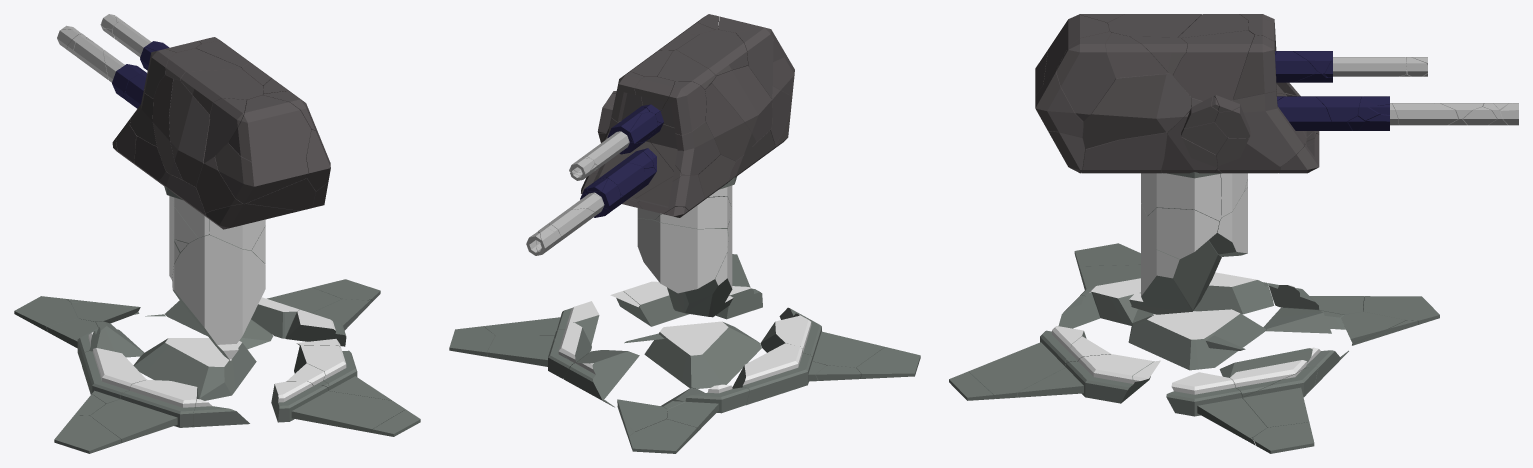
File: explodedTurret.fbx
3 views of the same model, side by side, from view 1: azimuth 30°, elevation 25°; view 2: azimuth 150°, elevation 25°; view 3: azimuth 270°, elevation 25° (orthographic). The views are drawn at different scales.
Visible parts, largest first — view 1: Base_cell.050, Base_cell.025, Base_cell.043, Base_cell.037, Main_cell.019, Main_cell.009, Main_cell.018, Main_cell.022, Base_cell.054, Base_cell.045, Base_cell.062, Main_cell.029 (+31 smaller); view 2: Base_cell.025, Base_cell.058, Base_cell.043, Base_cell.045, Main_cell.018, Main_cell.035, Base_cell.030, Base_cell.050, Base_cell.007, Main_cell.015, Main_cell.029, Base_cell.001 (+29 smaller); view 3: Main_cell.030, Base_cell.025, Base_cell.050, Main_cell.004, Base_cell.054, Base_cell.037, Base_cell.062, Main_cell.010, Base_cell.033, Base_cell.043, Main_cell.037, Main_cell.026 (+36 smaller).
Part boxes in pixels (<box>): Base_cell.050: <box>172,235,265,360</box>; Base_cell.025: <box>133,338,256,400</box>; Base_cell.043: <box>90,379,198,443</box>; Base_cell.037: <box>271,381,405,432</box>; Main_cell.019: <box>228,95,311,161</box>; Main_cell.009: <box>215,142,308,203</box>; Main_cell.018: <box>169,79,209,187</box>; Main_cell.022: <box>196,155,315,213</box>; Base_cell.054: <box>294,345,391,400</box>; Base_cell.045: <box>82,348,146,403</box>; Base_cell.062: <box>285,299,369,346</box>; Main_cell.029: <box>180,69,263,114</box>; Base_cell.025: <box>644,321,761,388</box>; Base_cell.058: <box>637,218,728,293</box>; Base_cell.043: <box>760,315,884,367</box>; Base_cell.045: <box>732,343,826,405</box>; Main_cell.018: <box>712,65,772,141</box>; Main_cell.035: <box>649,121,720,174</box>; Base_cell.030: <box>563,350,639,400</box>; Base_cell.050: <box>667,201,733,317</box>; Base_cell.007: <box>487,335,573,378</box>; Main_cell.015: <box>705,83,756,161</box>; Main_cell.029: <box>676,29,747,75</box>; Base_cell.001: <box>666,384,749,431</box>; Main_cell.030: <box>1082,73,1191,148</box>; Base_cell.025: <box>1128,309,1265,370</box>; Base_cell.050: <box>1129,204,1221,314</box>; Main_cell.004: <box>1172,30,1254,100</box>; Base_cell.054: <box>1017,354,1154,403</box>; Base_cell.037: <box>968,326,1086,398</box>; Base_cell.062: <box>1166,372,1267,440</box>; Main_cell.010: <box>1056,31,1115,121</box>; Base_cell.033: <box>1141,172,1222,221</box>; Base_cell.043: <box>1079,265,1153,325</box>; Main_cell.037: <box>1232,91,1304,166</box>; Main_cell.026: <box>1081,131,1168,173</box>.
Bounding box in the file's own units: 254 × 184 × 295.
